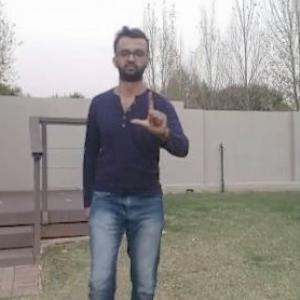land_hand: (128, 81, 173, 138)
